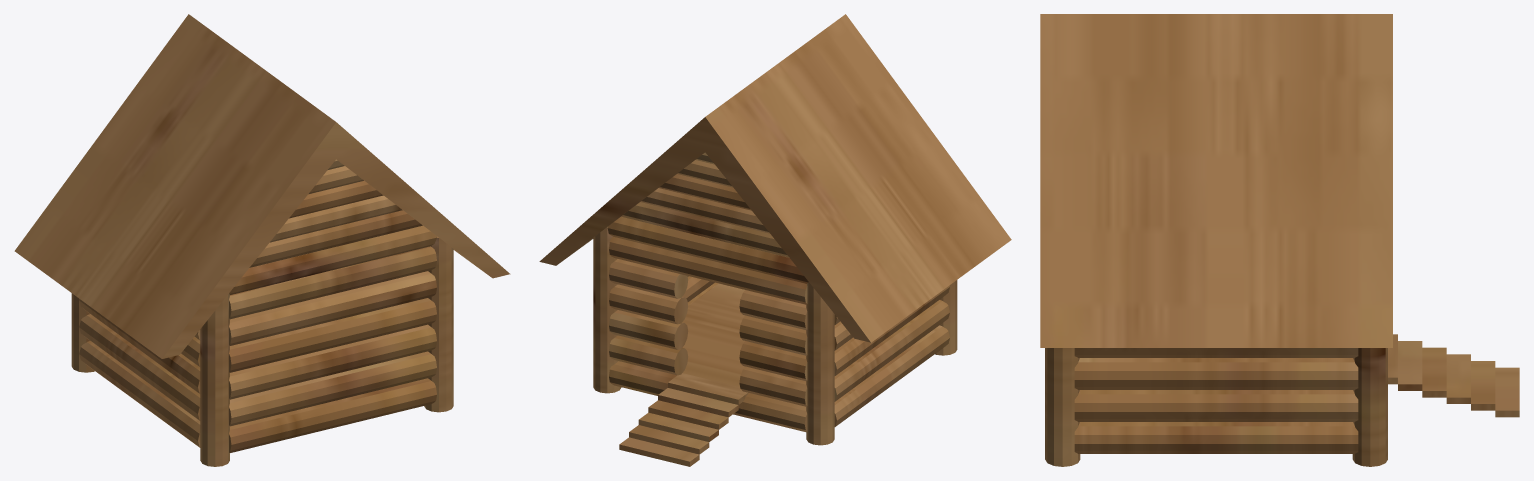
The model's file is CabinV6.fbx.
3 renders of one model, left to right at view 1: azimuth 30°, elevation 25°; view 2: azimuth 150°, elevation 25°; view 3: azimuth 270°, elevation 25°, orthographic. The views are drawn at different scales.
Parts seen in each view (by area): view 1: Cylinder.014; view 2: Cylinder.014, Cube, Cube.001; view 3: Cylinder.014, Cube.
Part boxes in pixels (<box>): Cylinder.014: <box>14,14,510,466</box>; Cylinder.014: <box>539,14,1011,445</box>; Cube: <box>619,373,748,466</box>; Cube.001: <box>682,283,744,386</box>; Cylinder.014: <box>1040,14,1392,466</box>; Cube: <box>1388,334,1519,417</box>.
Bounding box in the file's own units: 37.5 × 32.86 × 37.4.
